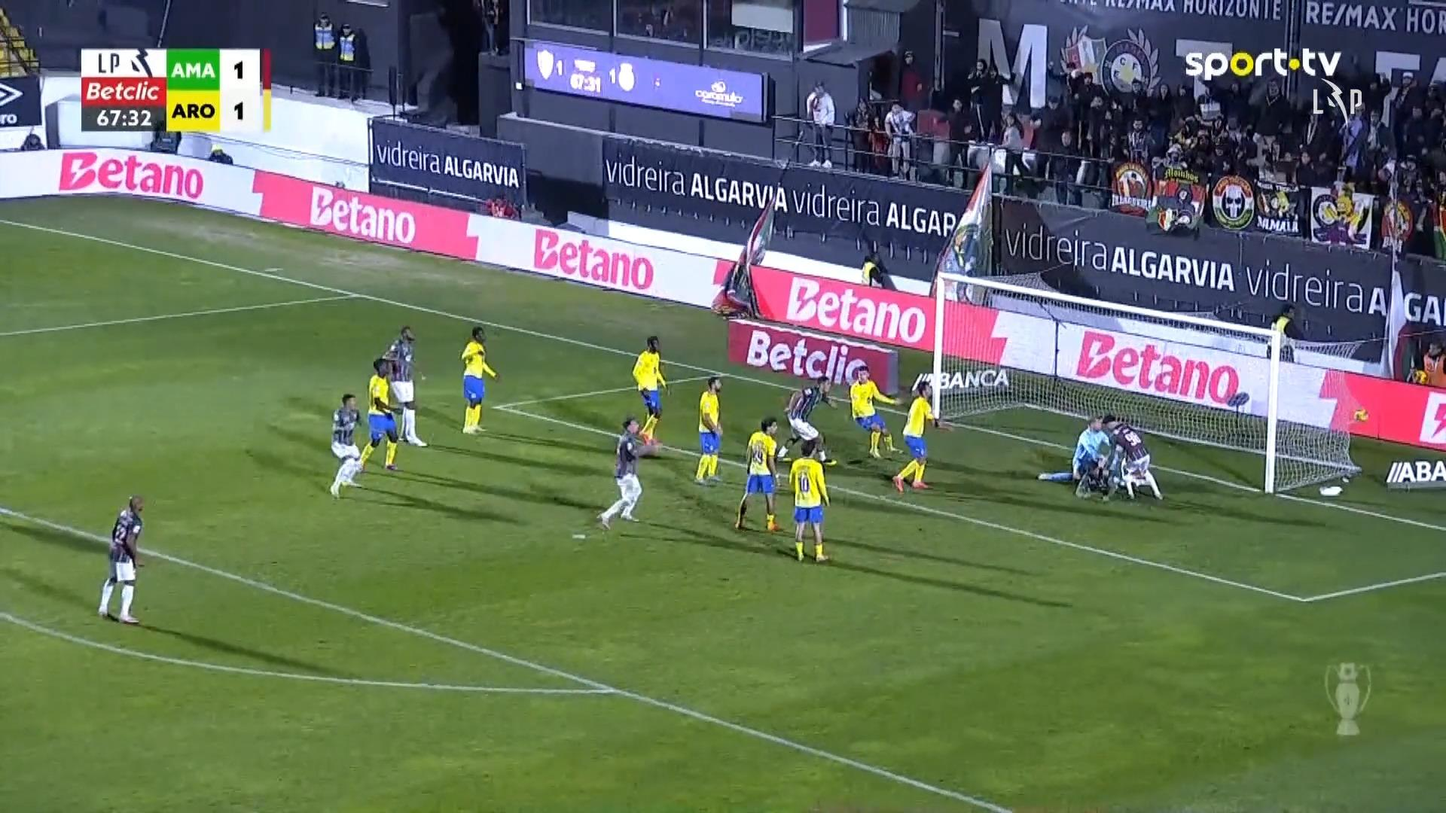ball: (1110, 53, 1143, 90)
goalkeeper: (1070, 416, 1113, 499)
player: (595, 416, 661, 531), (97, 493, 146, 624), (890, 379, 942, 493), (774, 373, 837, 465), (381, 324, 428, 447), (355, 356, 404, 471), (1100, 413, 1164, 501), (734, 416, 782, 532), (787, 440, 831, 562), (848, 364, 901, 459), (630, 334, 670, 445), (459, 325, 499, 434), (328, 392, 365, 499), (693, 375, 725, 484), (804, 78, 835, 169)
